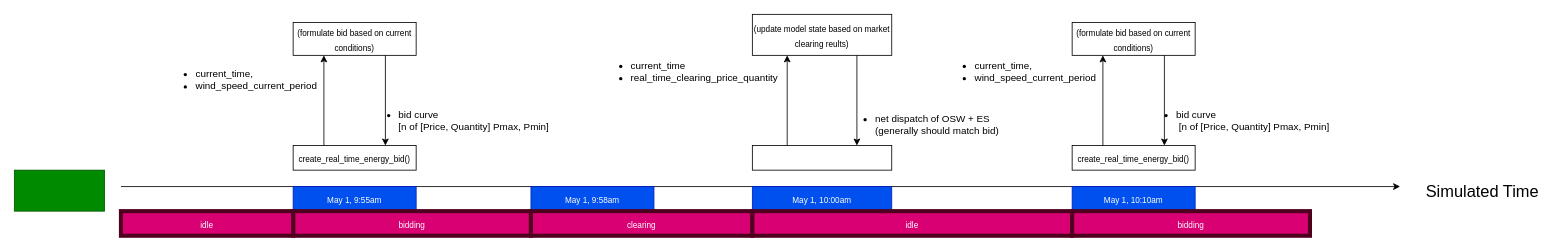
This 1562x252 diagram has some shape labels left out. The centre of each missing label's shape, as x and y in pixels:
"create_dispatch()" goes at [822,157].
"Real-Time Energy Market" goes at [59,190].
